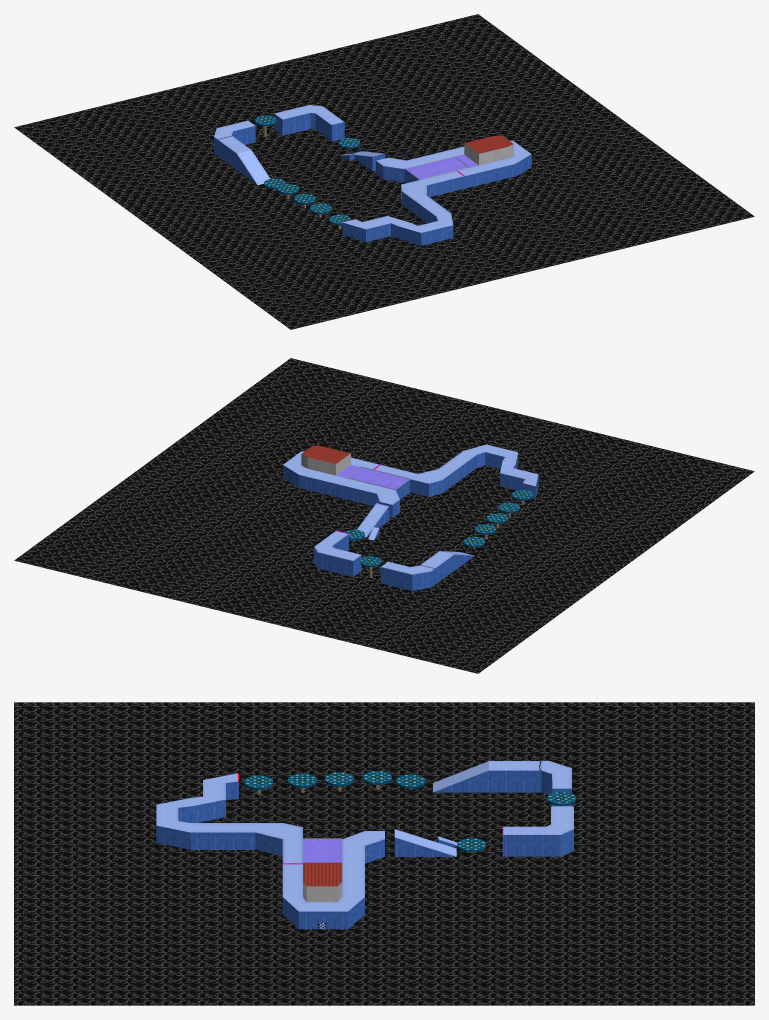
3 views of the same model, one above another, from view 1: azimuth 30°, elevation 25°; view 2: azimuth 150°, elevation 25°; view 3: azimuth 270°, elevation 25° (orthographic). The views are drawn at different scales.
Parts seen in each view (by area): view 1: Delfino_Sky-SKP--Water.001, Delfino_Sky-SKP--Wall.001, Delfino_Sky-SKP--Road.001, Delfino_Sky-SKP--Kinoko.001, Delfino_Sky-SKP--Strong_Off_Road.001, Delfino_Sky-SKP--Roof.001; view 2: Delfino_Sky-SKP--Water.001, Delfino_Sky-SKP--Wall.001, Delfino_Sky-SKP--Road.001, Delfino_Sky-SKP--Kinoko.001, Delfino_Sky-SKP--Strong_Off_Road.001, Delfino_Sky-SKP--Roof.001; view 3: Delfino_Sky-SKP--Water.001, Delfino_Sky-SKP--Road.001, Delfino_Sky-SKP--Wall.001, Delfino_Sky-SKP--Kinoko.001, Delfino_Sky-SKP--Roof.001, Delfino_Sky-SKP--Strong_Off_Road.001, Delfino_Sky-SKP--Build_1.001, Delfino_Sky-SKP--Kinoko_Wall.001.
Part boxes in pixels (<box>): Delfino_Sky-SKP--Water.001: <box>14,14,754,329</box>; Delfino_Sky-SKP--Wall.001: <box>214,113,531,245</box>; Delfino_Sky-SKP--Road.001: <box>214,105,531,232</box>; Delfino_Sky-SKP--Kinoko.001: <box>255,115,360,223</box>; Delfino_Sky-SKP--Strong_Off_Road.001: <box>406,154,478,179</box>; Delfino_Sky-SKP--Roof.001: <box>464,135,513,153</box>; Delfino_Sky-SKP--Water.001: <box>14,358,754,673</box>; Delfino_Sky-SKP--Wall.001: <box>283,452,538,590</box>; Delfino_Sky-SKP--Road.001: <box>283,444,538,574</box>; Delfino_Sky-SKP--Kinoko.001: <box>344,490,533,565</box>; Delfino_Sky-SKP--Strong_Off_Road.001: <box>336,465,409,489</box>; Delfino_Sky-SKP--Roof.001: <box>301,445,350,463</box>; Delfino_Sky-SKP--Water.001: <box>14,702,754,1005</box>; Delfino_Sky-SKP--Road.001: <box>156,761,573,911</box>; Delfino_Sky-SKP--Wall.001: <box>156,770,573,929</box>; Delfino_Sky-SKP--Kinoko.001: <box>244,770,576,850</box>; Delfino_Sky-SKP--Roof.001: <box>303,862,342,886</box>; Delfino_Sky-SKP--Strong_Off_Road.001: <box>303,839,342,862</box>; Delfino_Sky-SKP--Build_1.001: <box>303,838,342,901</box>; Delfino_Sky-SKP--Kinoko_Wall.001: <box>244,778,576,852</box>.
Size of the model in its own units: 138167 by 20621 by 142691.
19 materials, 19 textured.
